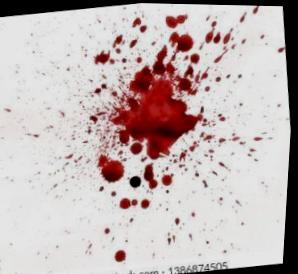Fire: (112, 31, 208, 159), (155, 118, 259, 197), (94, 33, 133, 147), (36, 124, 92, 176), (199, 19, 248, 62), (88, 111, 127, 159), (99, 150, 127, 181), (69, 40, 98, 63), (147, 164, 160, 188), (167, 15, 188, 26), (133, 17, 147, 32), (200, 238, 216, 249), (123, 199, 140, 209), (132, 176, 144, 188), (164, 173, 175, 185), (171, 232, 179, 244), (144, 199, 152, 208), (192, 53, 200, 62), (91, 115, 100, 123), (240, 10, 247, 20), (192, 234, 201, 241), (60, 110, 67, 117), (253, 4, 258, 12), (178, 217, 181, 224), (47, 107, 52, 110)
